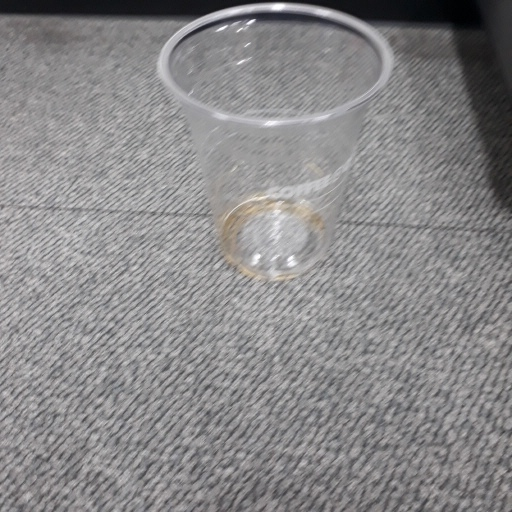Plastic_2: (153, 4, 394, 284)
